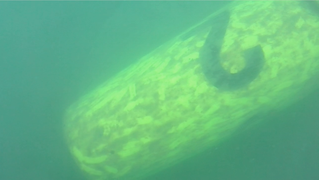2: (180, 9, 267, 91), (231, 106, 280, 138)
pipe: (60, 1, 319, 178)
